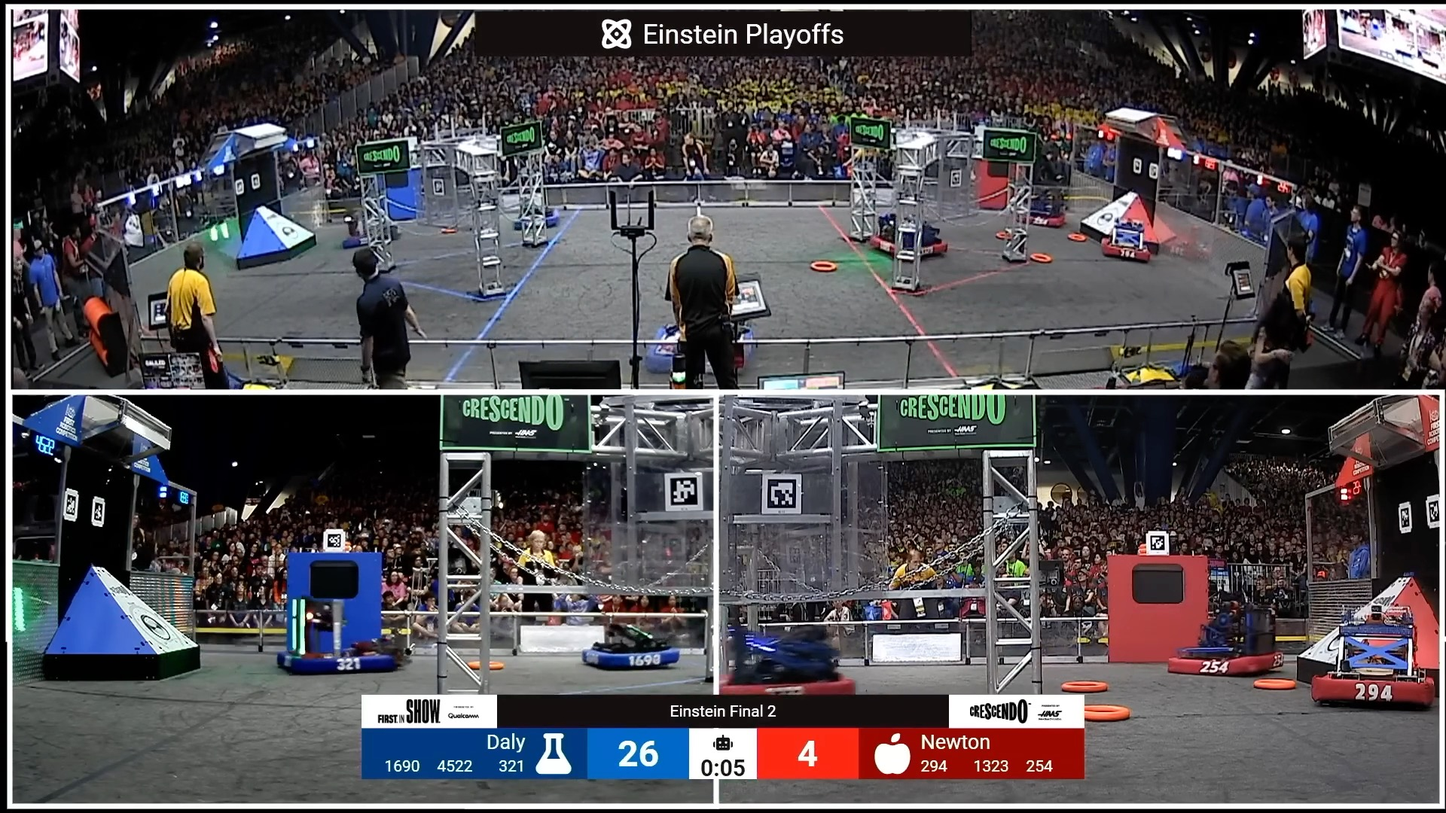bumpers: (268, 627, 408, 680), (1309, 670, 1438, 710), (576, 635, 691, 673), (717, 667, 860, 696), (1169, 647, 1291, 680), (860, 224, 955, 263), (340, 228, 407, 250), (1098, 238, 1150, 262), (1012, 212, 1072, 230), (516, 208, 561, 230)
